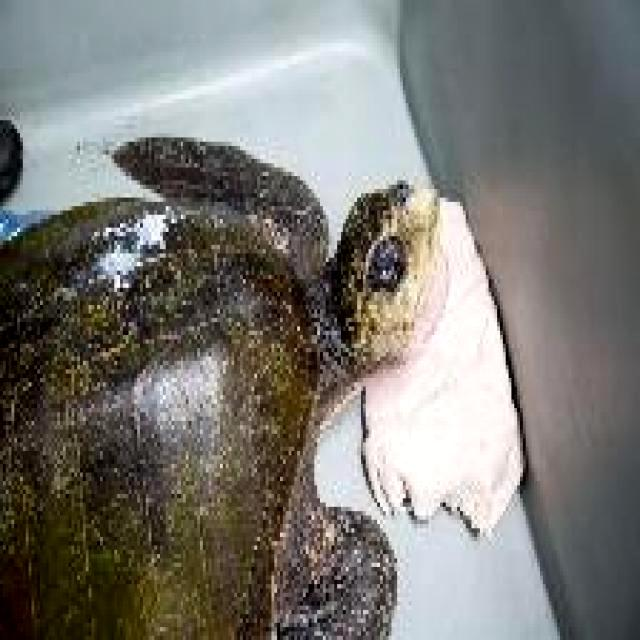Sea turtle: (0, 130, 445, 640)
